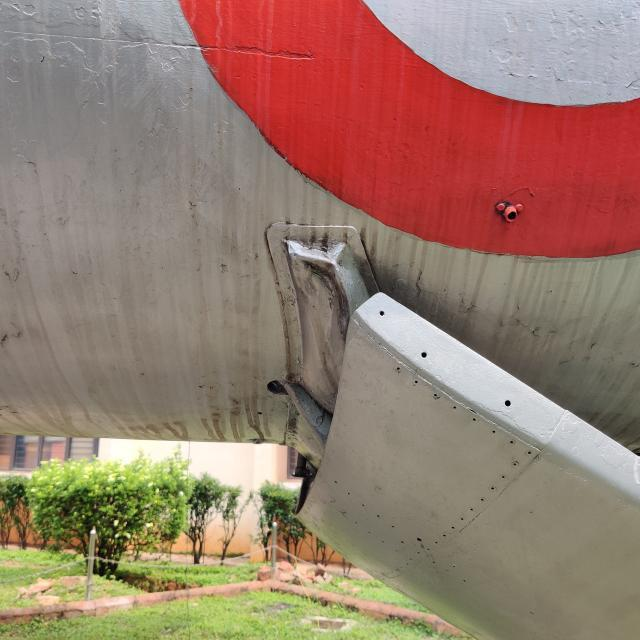dent: (273, 233, 358, 388)
